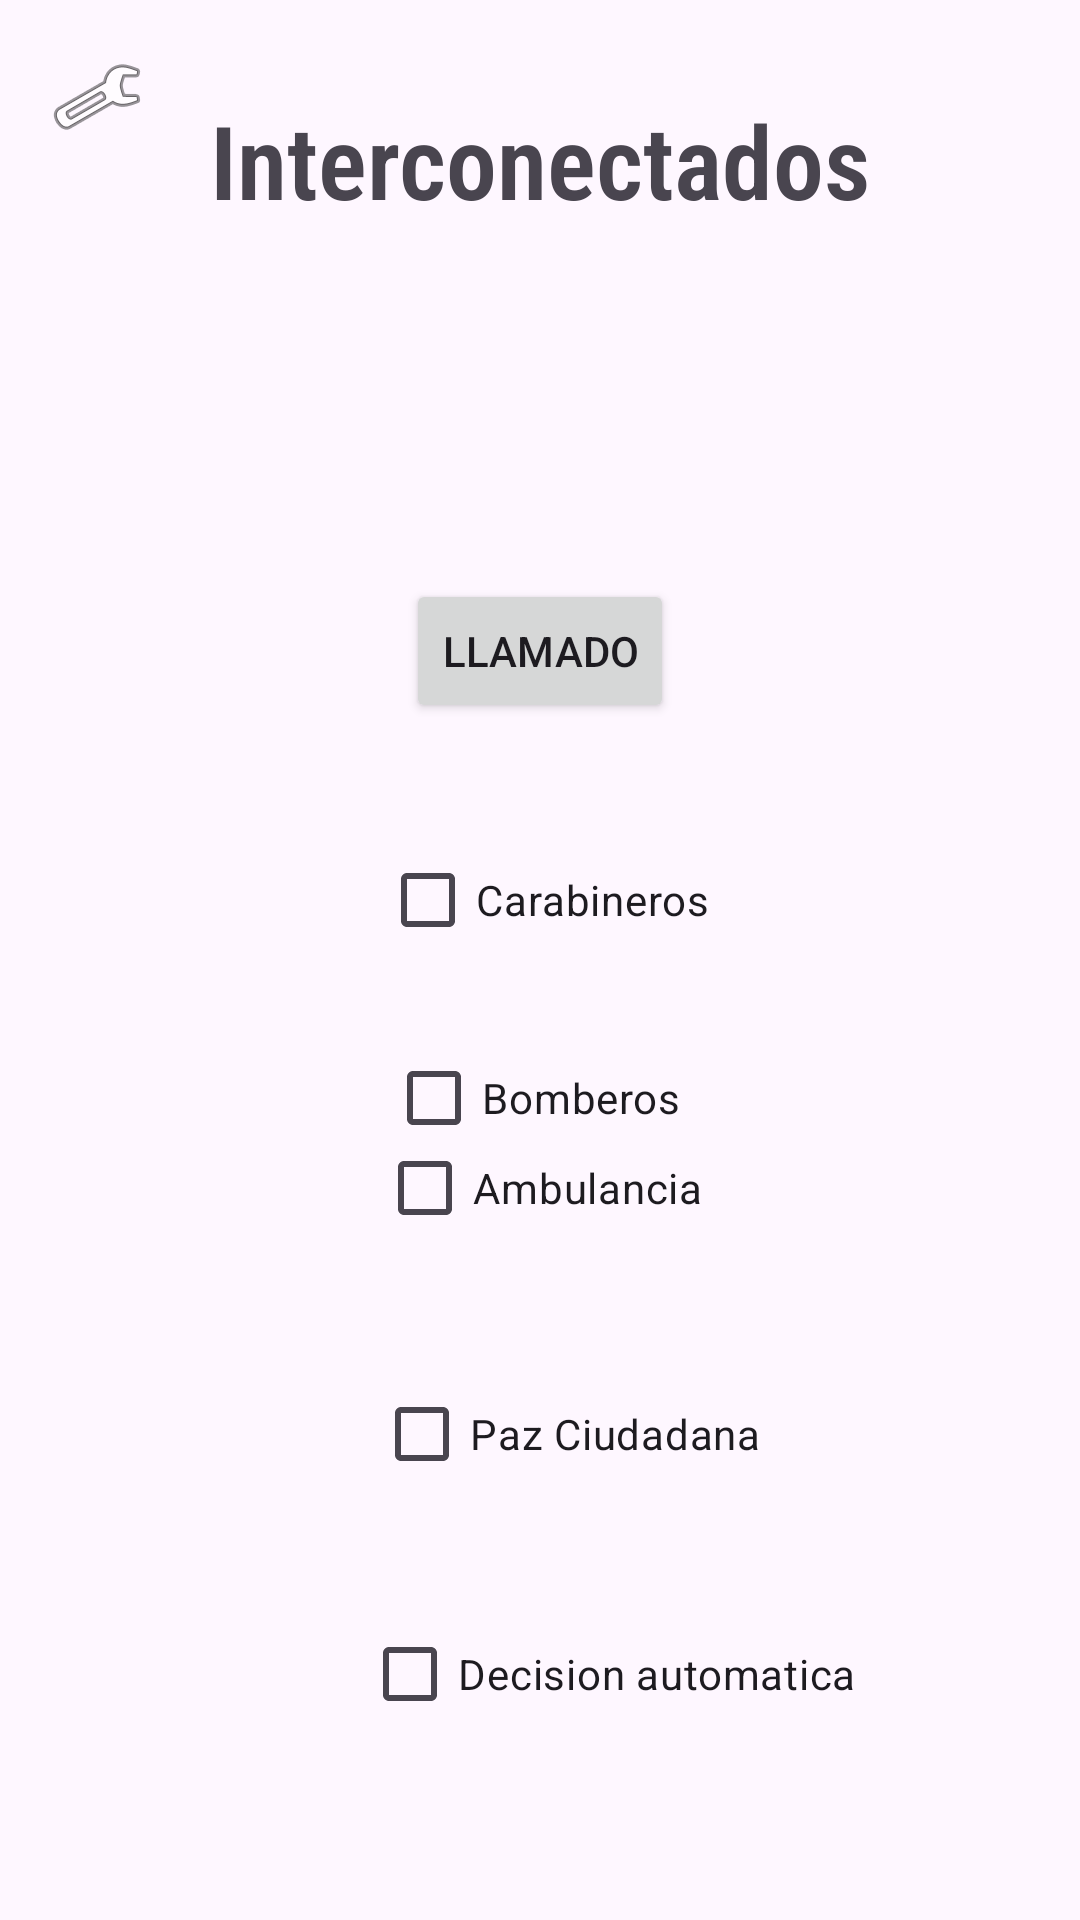

Icons on this 1080 × 1920 Android screen, each with its box as (x1=x1, y1=y1, x2=x2, y2=y2):
manage: (x1=54, y1=64, x2=140, y2=130)
